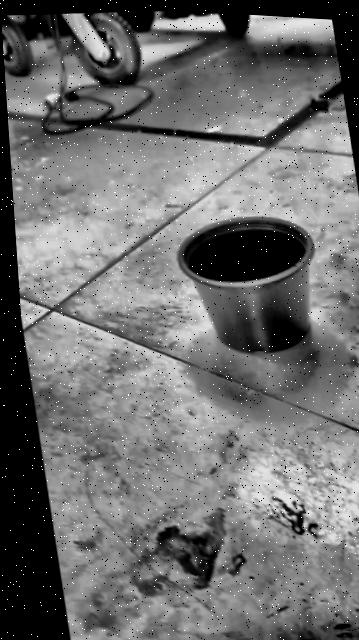pot: (177, 216, 313, 352)
